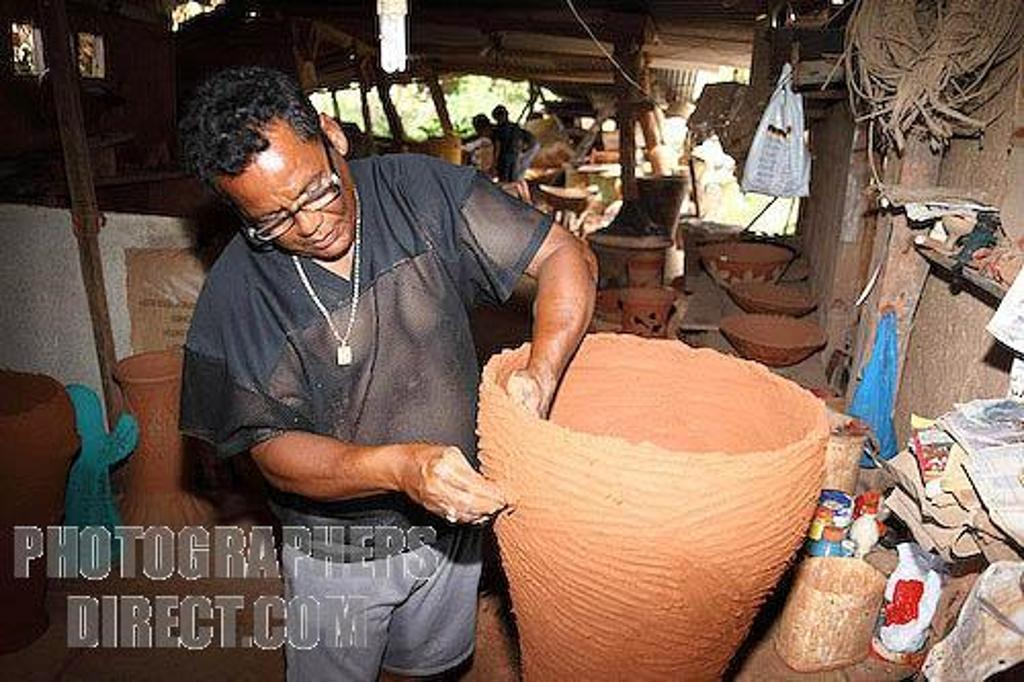face: (248, 136, 348, 258)
